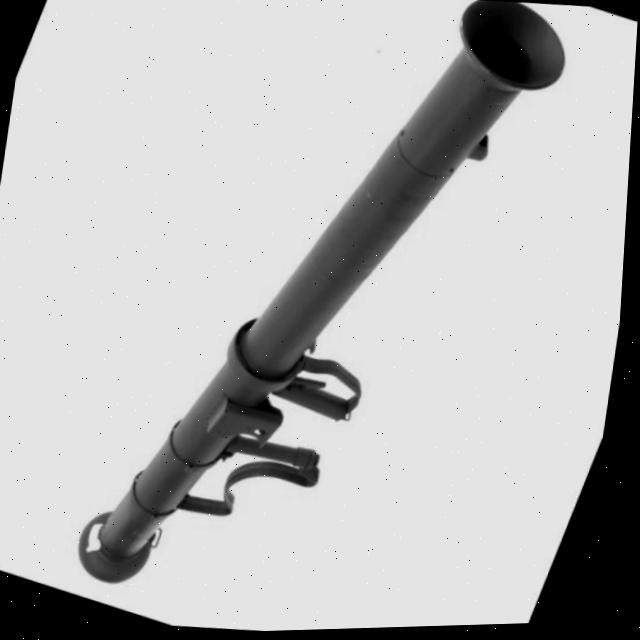rocket: (63, 0, 581, 638)
